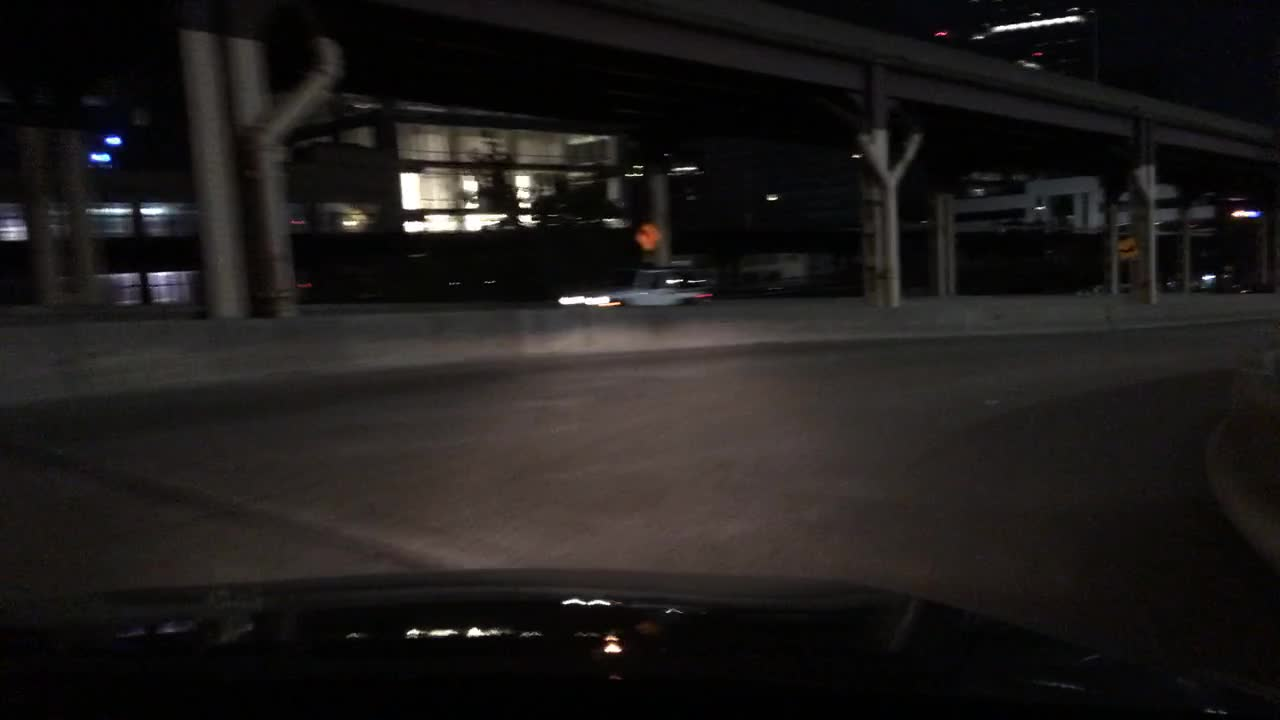car: (557, 285, 714, 314), (1162, 266, 1254, 297)
traffic sign: (633, 218, 658, 246), (1117, 234, 1140, 258)
